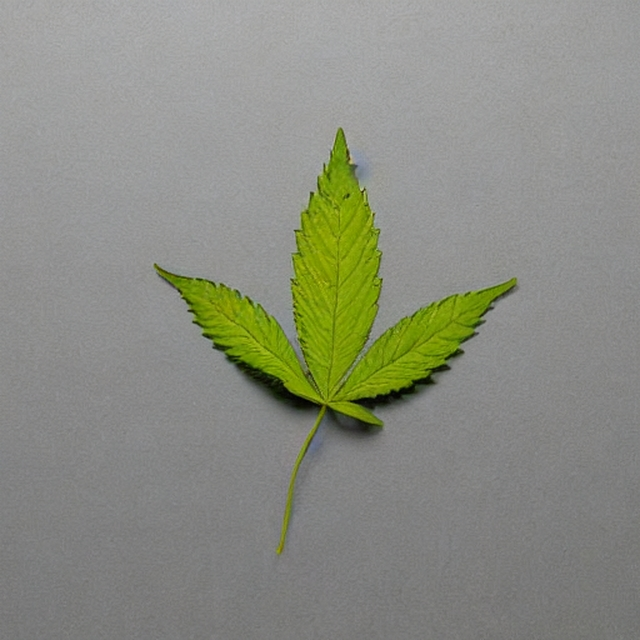Marijuana Leaf: (151, 124, 519, 554)
